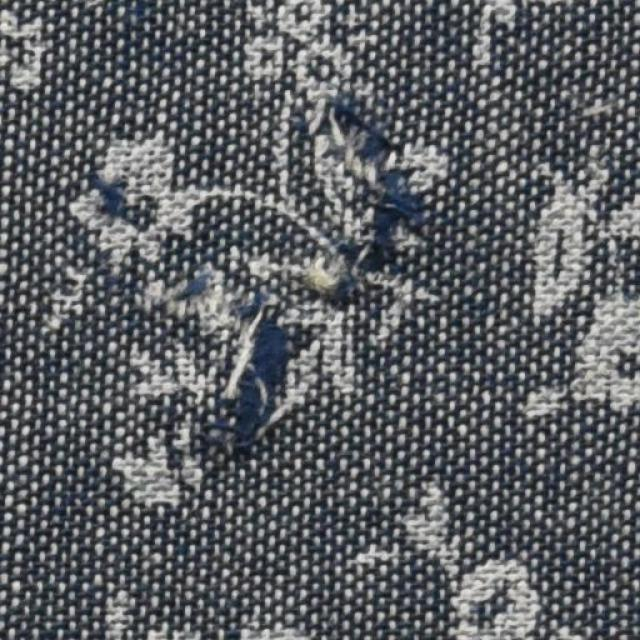Snag: (159, 85, 424, 467)
